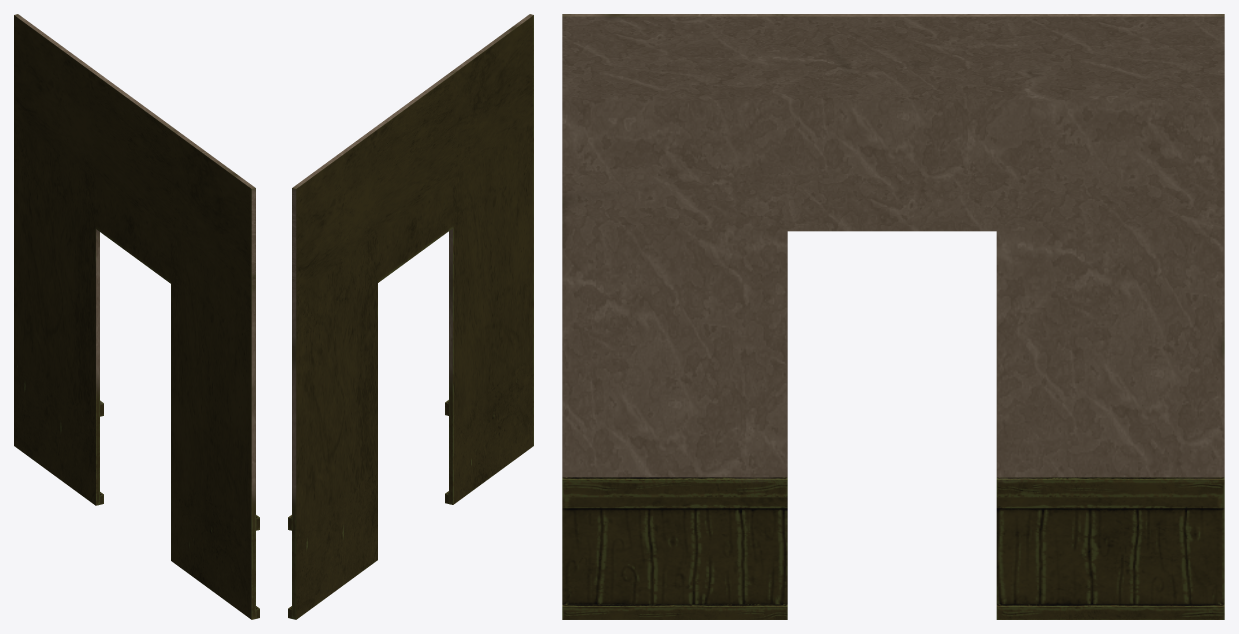
Rendered from GreatHallDoorFrameC.fbx.
3 renders of one model, left to right at view 1: azimuth 30°, elevation 25°; view 2: azimuth 150°, elevation 25°; view 3: azimuth 270°, elevation 25°, orthographic. The views are drawn at different scales.
Visible parts, largest first — view 1: ModWall_4a; view 2: ModWall_4a; view 3: ModWall_4a.
Boxes of the visible parts, box(x1,y1,x2,y2) form: ModWall_4a: box(14, 14, 259, 619); ModWall_4a: box(288, 14, 533, 619); ModWall_4a: box(562, 14, 1224, 619).
Size of the model in its own units: 0.3281 by 16.4 by 16.4.
1 material, 1 textured.
